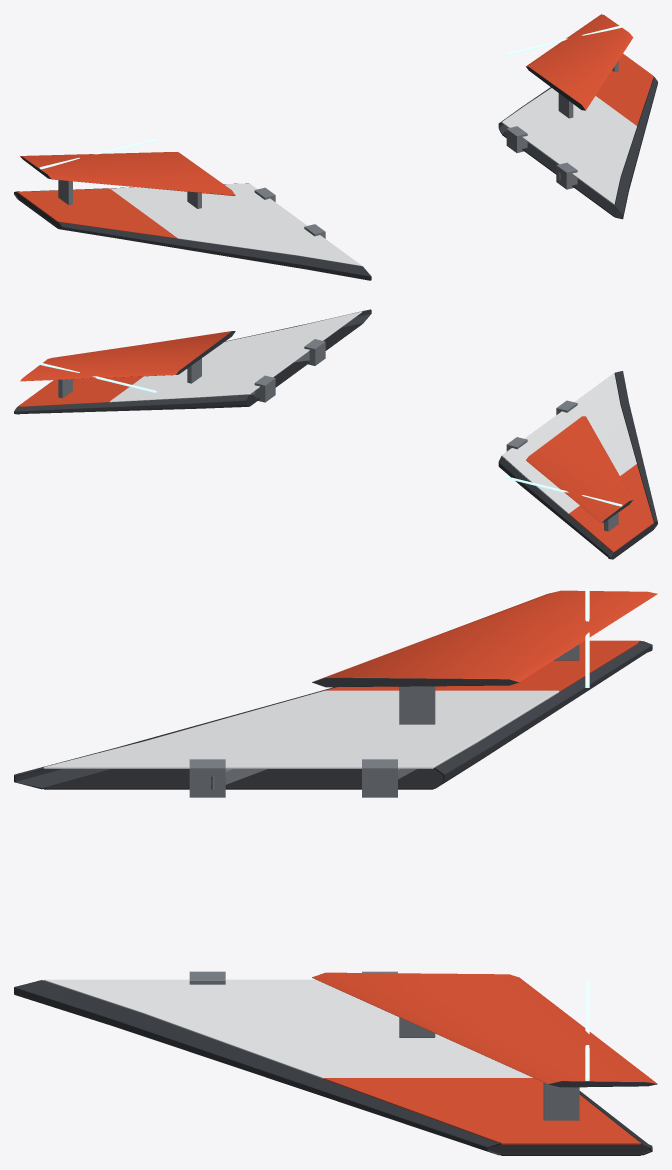
The model's file is vortex_wing_vector.fbx.
The picture shows the model from 3 angles, top to bottom: view 1: azimuth 30°, elevation 25°; view 2: azimuth 150°, elevation 25°; view 3: azimuth 270°, elevation 25°; orthographic projection. The views are drawn at different scales.
Visible parts, largest first — view 1: Wing_Top_L.001, Wing_Top_R.001, Wing_Vector_Extra_L, Wing_Vector_Extra_R, Wing_LE_L.001, Wing_LE_R.001, Wing_Bottom_R.001, Wing_Structure_R.001; view 2: Wing_Top_R.001, Wing_Top_L.001, Wing_Vector_Extra_L, Wing_Vector_Extra_R, Wing_TE_R.001, Wing_TE_L.001, Wing_LE_L.001, Wing_Structure_R.001, Wing_Bottom_R.001, Wing_Structure_L.001; view 3: Wing_Top_R.001, Wing_Top_L.001, Wing_Vector_Extra_R, Wing_Vector_Extra_L, Wing_LE_R.001, Wing_Bottom_L.001, Wing_TE_L.001, Wing_Structure_L.001, Wing_LE_L.001, Wing_Tip_R.001.
Part boxes in pixels (<box>): Wing_Top_L.001: <box>17,183,361,266</box>; Wing_Top_R.001: <box>501,53,653,204</box>; Wing_Vector_Extra_L: <box>20,139,235,208</box>; Wing_Vector_Extra_R: <box>505,14,633,118</box>; Wing_LE_L.001: <box>58,222,371,280</box>; Wing_LE_R.001: <box>614,77,657,219</box>; Wing_Bottom_R.001: <box>502,83,651,216</box>; Wing_Structure_R.001: <box>506,87,650,189</box>; Wing_Top_R.001: <box>18,311,362,406</box>; Wing_Top_L.001: <box>501,373,653,552</box>; Wing_Vector_Extra_L: <box>505,416,633,531</box>; Wing_Vector_Extra_R: <box>20,331,235,398</box>; Wing_TE_R.001: <box>14,394,248,413</box>; Wing_TE_L.001: <box>498,456,613,559</box>; Wing_LE_L.001: <box>614,371,657,528</box>; Wing_Structure_R.001: <box>249,339,325,402</box>; Wing_Bottom_R.001: <box>246,323,362,406</box>; Wing_Structure_L.001: <box>506,400,609,549</box>; Wing_Top_R.001: <box>43,979,640,1144</box>; Wing_Top_L.001: <box>43,640,640,768</box>; Wing_Vector_Extra_R: <box>312,972,657,1120</box>; Wing_Vector_Extra_L: <box>312,588,657,724</box>; Wing_LE_R.001: <box>14,980,500,1155</box>; Wing_Bottom_L.001: <box>43,768,442,789</box>; Wing_TE_L.001: <box>434,641,652,788</box>; Wing_Structure_L.001: <box>189,759,416,797</box>; Wing_LE_L.001: <box>14,687,335,789</box>; Wing_Tip_R.001: <box>488,1141,652,1155</box>.
Size of the model in its own units: 332 by 24.5 by 179.
